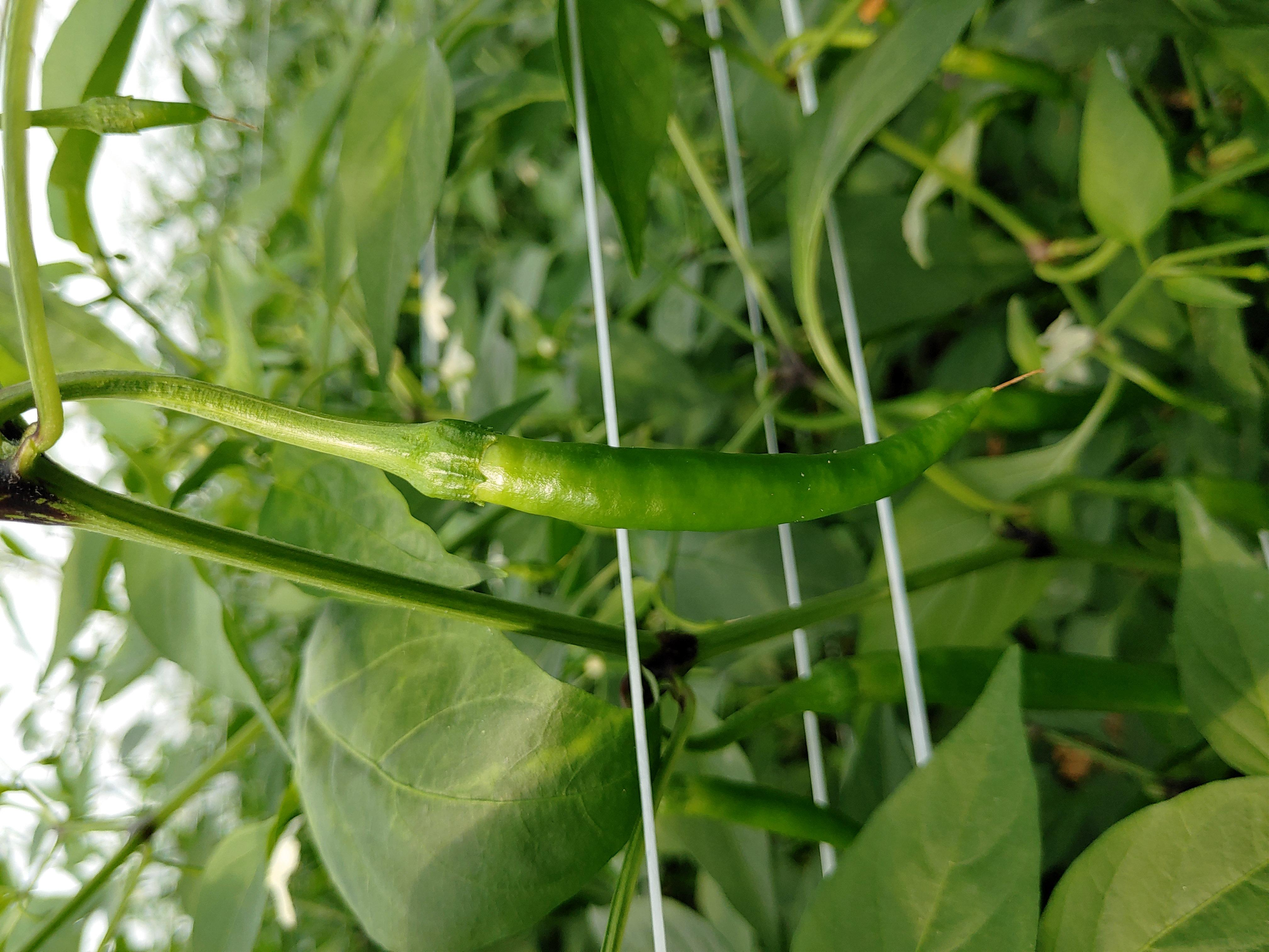Buah Cabai Sehat: (374, 381, 1004, 541)
